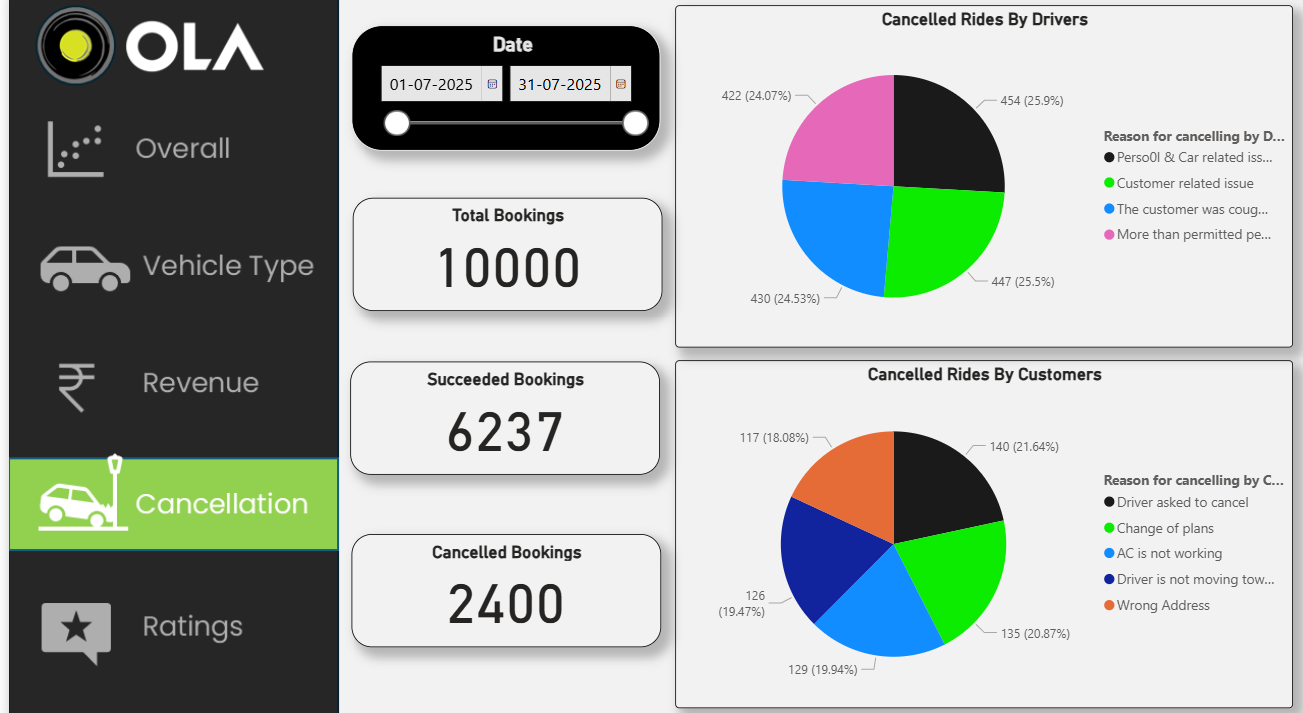

Layout of this report page (visuals, bound fields, positions):
{"tool":"powerbi","page":{"name":"Cancellation","canvas":[1280,720],"ordinal":3},"visuals":[{"type":"actionButton","box":[0,222.1,323.9,92],"z":0},{"type":"actionButton","box":[0,347.2,323.9,92],"z":1000},{"type":"actionButton","box":[0,565.6,323.9,106.7],"z":2000},{"type":"actionButton","box":[0,106.7,323.9,93.3],"z":3000},{"type":"pieChart","title":"Cancelled Rides By Drivers ","fields":{"Y":["CountNonNull(hyderabad_booking_data.Cancelled Rides by Driver)"],"Category":["hyderabad_booking_data.Reason for cancelling by Driver"]},"box":[654.5,11,606.5,336.2],"z":4000},{"type":"pieChart","title":"Cancelled Rides By Customers","fields":{"Category":["hyderabad_booking_data.Reason for cancelling by Customer"],"Y":["Sum(hyderabad_booking_data.Cancelled Rides by Customer)"]},"box":[654.5,359.5,606.5,341.7],"z":5000},{"type":"slicer","title":"Date","fields":{"Values":["hyderabad_booking_data.Date"]},"box":[336.2,30.2,303.3,123.5],"z":6000},{"type":"card","title":"Total Bookings","fields":{"Values":["CountNonNull(hyderabad_booking_data.Booking ID)"]},"box":[337.8,199.6,303.6,111.2],"z":7000},{"type":"card","title":"Succeeded Bookings","fields":{"Values":["CountNonNull(hyderabad_booking_data.Booking ID)"]},"box":[335,360.6,303.6,111.2],"z":8000},{"type":"card","title":"Cancelled Bookings","fields":{"Values":["CountNonNull(hyderabad_booking_data.Booking ID)"]},"box":[336.4,530.2,303.6,111.2],"z":9000}]}

Visuals, with their boxes on the page's 1280x720 design canvas (x1, y1, x2, y2). These are canvas units, not pixel positions in the 1303x713 screenshot, which may show the page scaled, cropped or inside an application window:
actionButton: (0,222,324,314)
actionButton: (0,347,324,439)
actionButton: (0,566,324,672)
actionButton: (0,107,324,200)
"Cancelled Rides By Drivers " pieChart: (654,11,1261,347)
"Cancelled Rides By Customers" pieChart: (654,360,1261,701)
"Date" slicer: (336,30,640,154)
"Total Bookings" card: (338,200,641,311)
"Succeeded Bookings" card: (335,361,639,472)
"Cancelled Bookings" card: (336,530,640,641)
